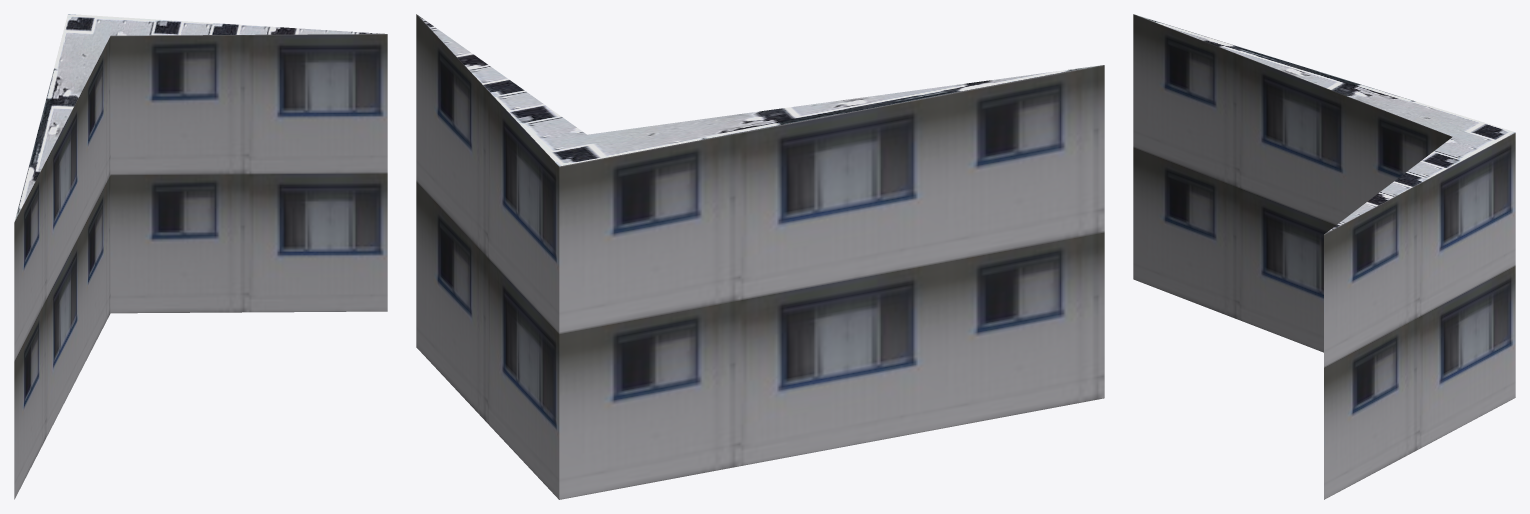
Rendered from ResTex__1959.fbx.
3 views of the same model, side by side, from view 1: azimuth 30°, elevation 25°; view 2: azimuth 150°, elevation 25°; view 3: azimuth 270°, elevation 25° (orthographic). The views are drawn at different scales.
Parts seen in each view (by area): view 1: CityEngineMaterial_9_m, CityEngineMaterial_m; view 2: CityEngineMaterial_9_m, CityEngineMaterial_m; view 3: CityEngineMaterial_9_m, CityEngineMaterial_m.
Part boxes in pixels (x1=…): CityEngineMaterial_9_m: x1=14, y1=34, x2=387, y2=499; CityEngineMaterial_m: x1=14, y1=14, x2=384, y2=221; CityEngineMaterial_9_m: x1=416, y1=14, x2=1104, y2=499; CityEngineMaterial_m: x1=417, y1=14, x2=1100, y2=166; CityEngineMaterial_9_m: x1=1133, y1=14, x2=1515, y2=499; CityEngineMaterial_m: x1=1135, y1=14, x2=1515, y2=233.
Size of the model in its own units: 10.7 by 6 by 7.84.
2 materials, 2 textured.
